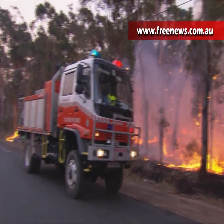fire_h: (177, 151, 223, 175)
fire_l: (162, 136, 173, 158), (132, 128, 143, 146), (6, 129, 19, 141), (148, 135, 157, 143), (163, 162, 175, 168), (198, 104, 203, 118), (193, 118, 200, 125), (212, 75, 218, 79), (143, 157, 148, 161)
